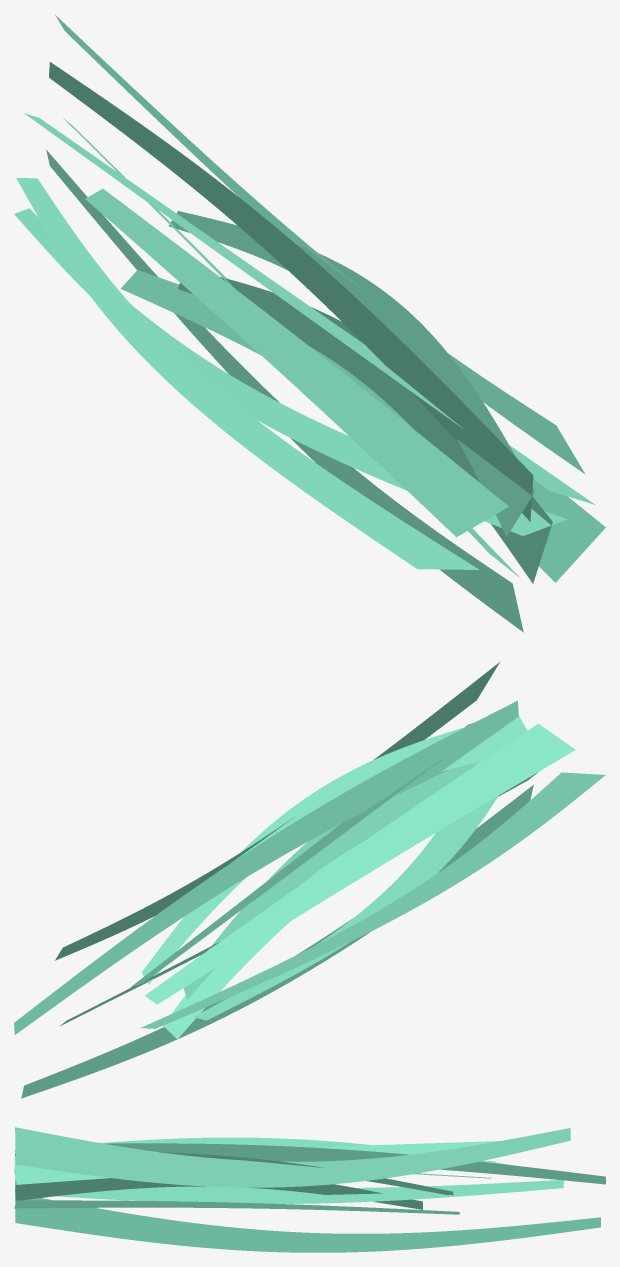
Rendered from kelp-grove-02.glb.
3 views of the same model, one above another, from view 1: azimuth 30°, elevation 25°; view 2: azimuth 150°, elevation 25°; view 3: azimuth 270°, elevation 25° (orthographic). The views are drawn at different scales.
Parts seen in each view (by area): view 1: kelp-grove-02; view 2: kelp-grove-02; view 3: kelp-grove-02.
Boxes of the visible parts, bbox=[...] form: kelp-grove-02: bbox=[14, 15, 605, 632]; kelp-grove-02: bbox=[14, 661, 605, 1098]; kelp-grove-02: bbox=[14, 1127, 605, 1252].
Bounding box in the file's own units: 2.07 × 2.21 × 9.27.
